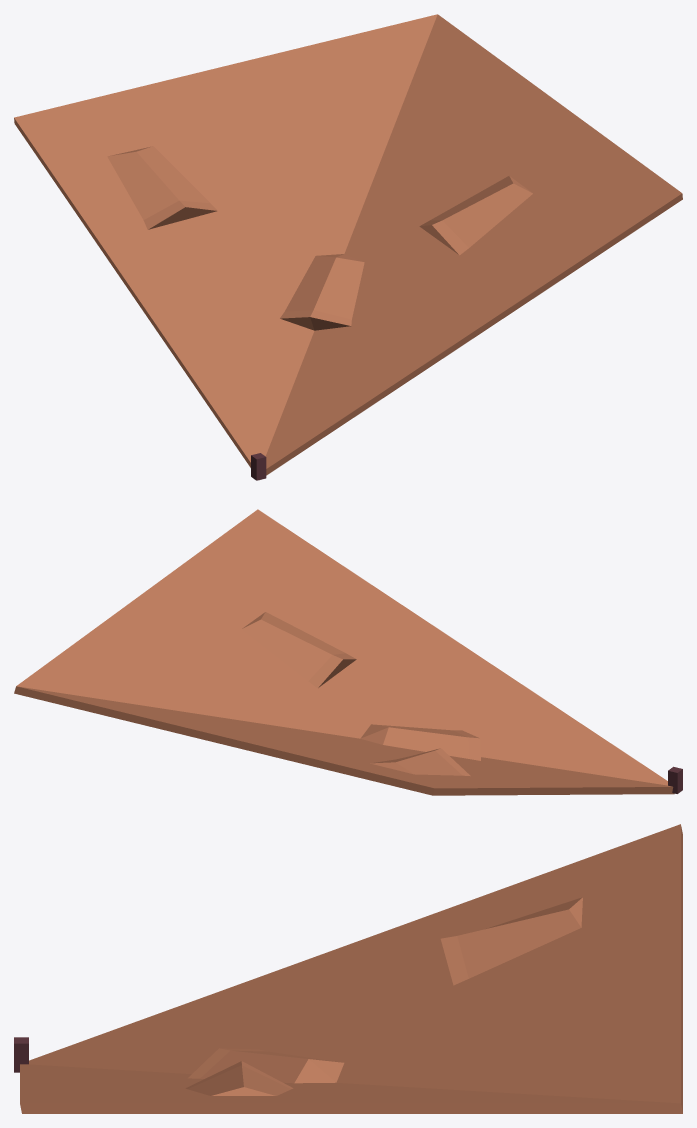
The model's file is empire-roof-in-edge-3x3m-big-3m-empire.glb.
The picture shows the model from 3 angles, top to bottom: view 1: azimuth 30°, elevation 25°; view 2: azimuth 150°, elevation 25°; view 3: azimuth 270°, elevation 25°; orthographic projection. The views are drawn at different scales.
Visible parts, largest first — view 1: SM_Roof_In_Edge_3x3m_Big_3m_Empire; view 2: SM_Roof_In_Edge_3x3m_Big_3m_Empire; view 3: SM_Roof_In_Edge_3x3m_Big_3m_Empire.
Part boxes in pixels (left/top/right/bottom): SM_Roof_In_Edge_3x3m_Big_3m_Empire: left=14, top=14, right=682, bottom=480; SM_Roof_In_Edge_3x3m_Big_3m_Empire: left=14, top=509, right=682, bottom=795; SM_Roof_In_Edge_3x3m_Big_3m_Empire: left=14, top=824, right=682, bottom=1113.
Size of the model in its own units: 3.04 by 1.25 by 3.04.
